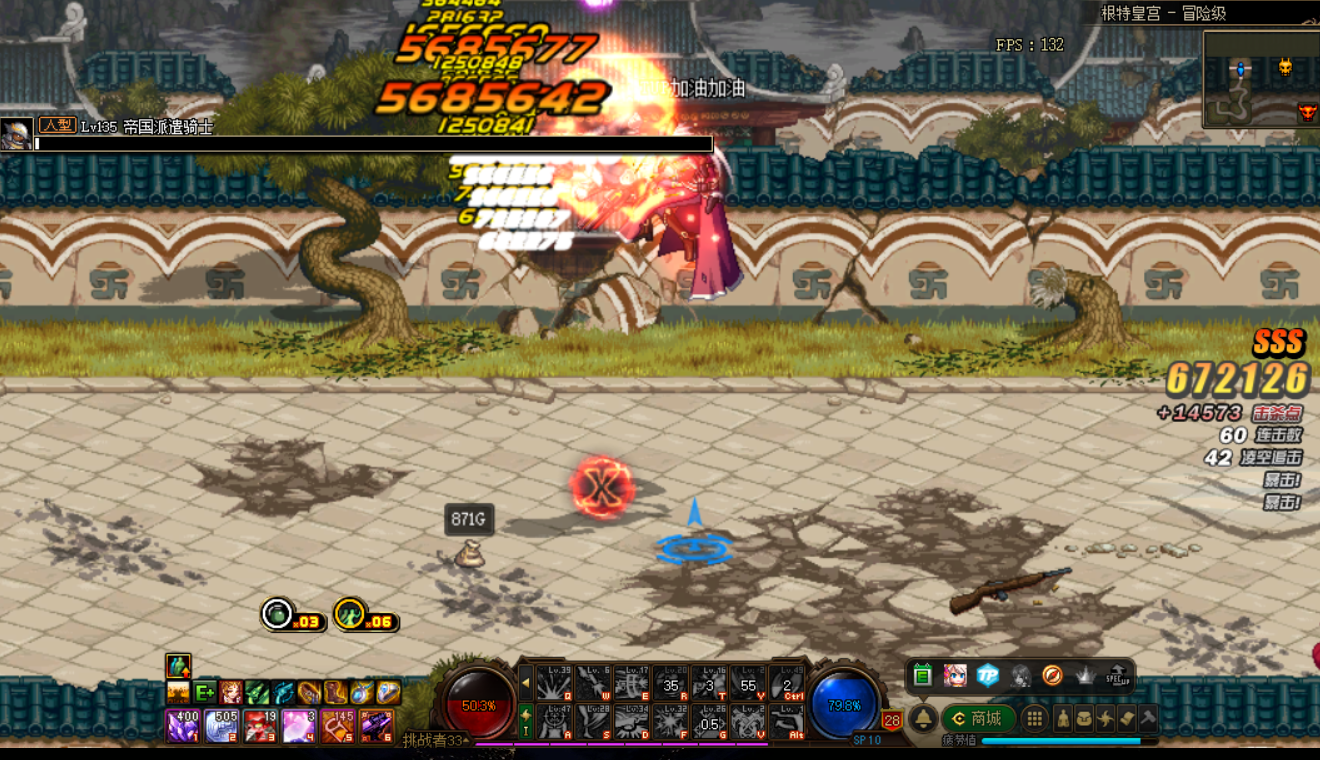warrior: (545, 113, 749, 281)
